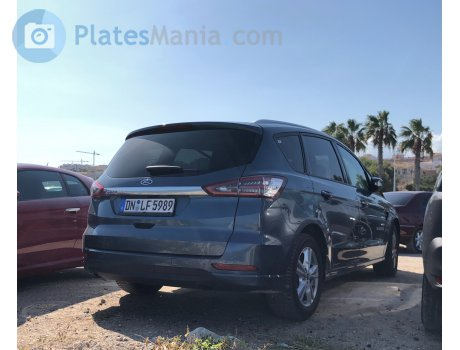License Plates: (122, 199, 172, 211)
